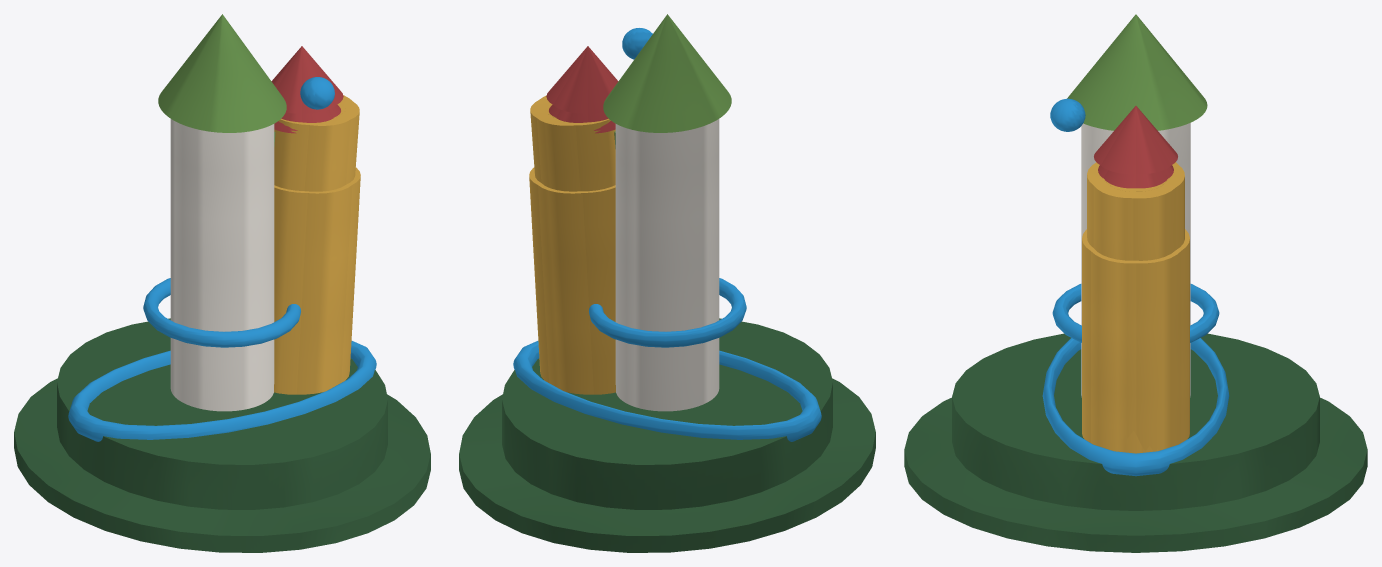
File: 0553_岩石矿物图鉴_卡利南钻石一世.glb
3 views of the same model, side by side, from view 1: azimuth 30°, elevation 25°; view 2: azimuth 150°, elevation 25°; view 3: azimuth 270°, elevation 25° (orthographic).
Parts seen in each view (by area): view 1: card_0553; view 2: card_0553; view 3: card_0553.
Part boxes in pixels (left/top/right/bottom): card_0553: left=14, top=14, right=430, bottom=552; card_0553: left=459, top=14, right=875, bottom=552; card_0553: left=904, top=14, right=1367, bottom=552.
Bounding box in the file's own units: 0.8193 × 1 × 0.9276.
